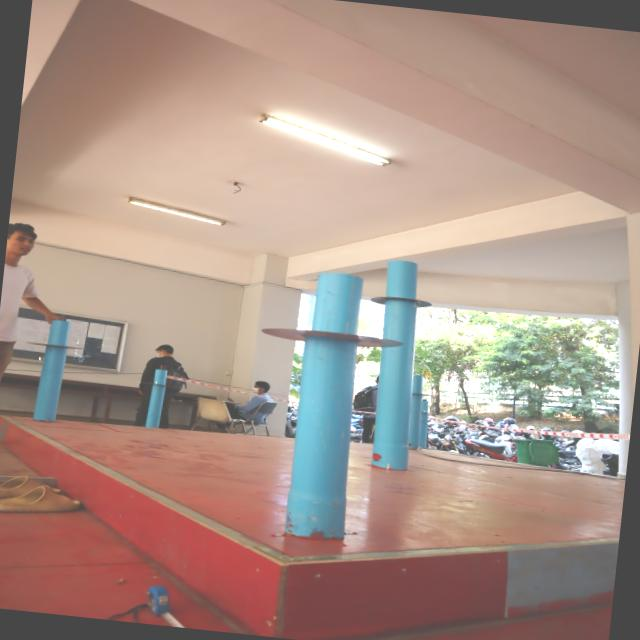pole: (244, 266, 410, 384), (366, 253, 451, 328), (25, 308, 85, 368), (134, 361, 180, 394)
